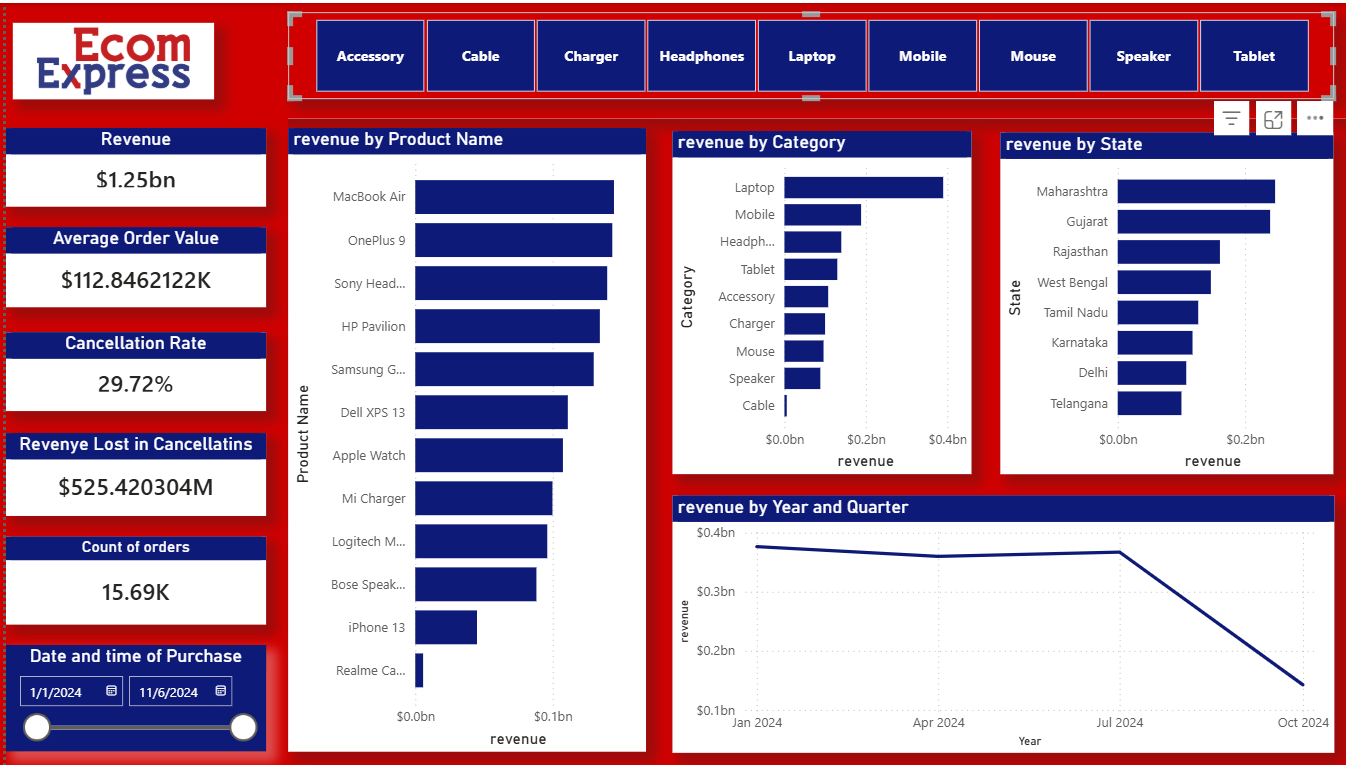

What the dashboard file says about the page in this screenshot:
{"tool":"powerbi","page":{"name":"Page 1","canvas":[1280,720],"ordinal":0},"visuals":[{"type":"shape","box":[0,0,1281.1,106.8],"z":0},{"type":"shape","box":[0,52.7,260.8,667.6],"z":1000},{"type":"barChart","fields":{"Category":["Products.Product Name"],"Y":["table.revenue"]},"box":[260.8,116.2,331.1,577],"z":2000},{"type":"barChart","fields":{"Category":["Products.Category"],"Y":["table.revenue"]},"box":[616.2,118.9,277,317.6],"z":3000},{"type":"lineChart","fields":{"Y":["table.revenue"],"Category":["Orders.Date and time of purchase.Variation.Date Hierarchy.Year","Orders.Date and time of purchase.Variation.Date Hierarchy.Quarter","Orders.Date and time of purchase.Variation.Date Hierarchy.Month","Orders.Date and time of purchase.Variation.Date Hierarchy.Day"]},"box":[616.2,455.4,612.2,237.8],"z":4000},{"type":"barChart","fields":{"Category":["Customers.State"],"Y":["table.revenue"]},"box":[920.3,120.3,308.1,316.2],"z":5000},{"type":"cardVisual","title":"Average Order Value","fields":{"Data":["table.AOV"]},"box":[0,206.8,240.5,74.3],"z":6000},{"type":"cardVisual","title":"Cancellation Rate","fields":{"Data":["table.cancellation rate"]},"box":[0,305.4,240.5,73],"z":7000},{"type":"cardVisual","title":"Revenye Lost in Cancellatins","fields":{"Data":["table.Lost_rev_cancellations"]},"box":[0,397.3,240.5,77],"z":8000},{"type":"cardVisual","title":"Count of orders","fields":{"Data":["CountNonNull(Orders.OrderID)"]},"box":[0,493.2,240.5,81.1],"z":9000},{"type":"cardVisual","title":"Revenue","fields":{"Data":["table.revenue"]},"box":[0,116.2,240.5,73],"z":10000},{"type":"slicer","fields":{"Values":["Products.Category"]},"box":[261,8.5,967.9,80.4],"z":11000},{"type":"image","box":[5.6,18.3,187.7,70.5],"z":12000},{"type":"slicer","title":"Date and time of Purchase","fields":{"Values":["Orders.Date and time of purchase"]},"box":[0,594.6,240.5,98.6],"z":13000}]}

Visuals, with their boxes in screenshot pixels (x1, y1, x2, y2), scaled from the page's 1280x720 canvas onto the 1346x765 screenshot:
shape: locate(0, 0, 1345, 113)
shape: locate(0, 56, 274, 764)
barChart - Products.Product Name x table.revenue: locate(274, 123, 622, 737)
barChart - Products.Category x table.revenue: locate(648, 126, 939, 464)
lineChart - table.revenue x Orders.Date and time of purchase.Variation.Date Hierarchy.Year: locate(648, 484, 1292, 737)
barChart - Customers.State x table.revenue: locate(968, 128, 1292, 464)
"Average Order Value" cardVisual: locate(0, 220, 253, 299)
"Cancellation Rate" cardVisual: locate(0, 324, 253, 402)
"Revenye Lost in Cancellatins" cardVisual: locate(0, 422, 253, 504)
"Count of orders" cardVisual: locate(0, 524, 253, 610)
"Revenue" cardVisual: locate(0, 123, 253, 201)
slicer - Products.Category: locate(274, 9, 1292, 94)
image: locate(6, 19, 203, 94)
"Date and time of Purchase" slicer: locate(0, 632, 253, 737)
